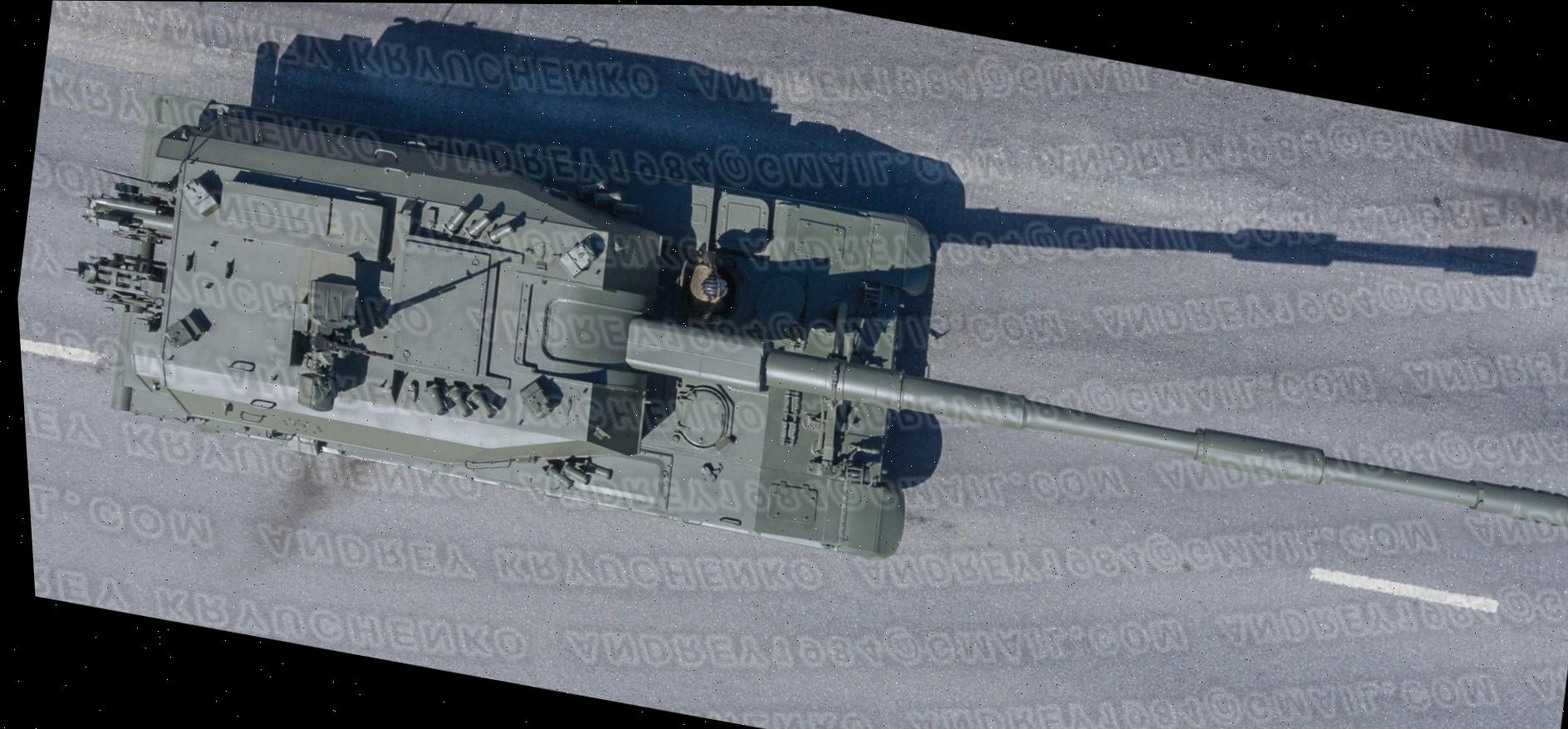tank: (17, 47, 1568, 696)
